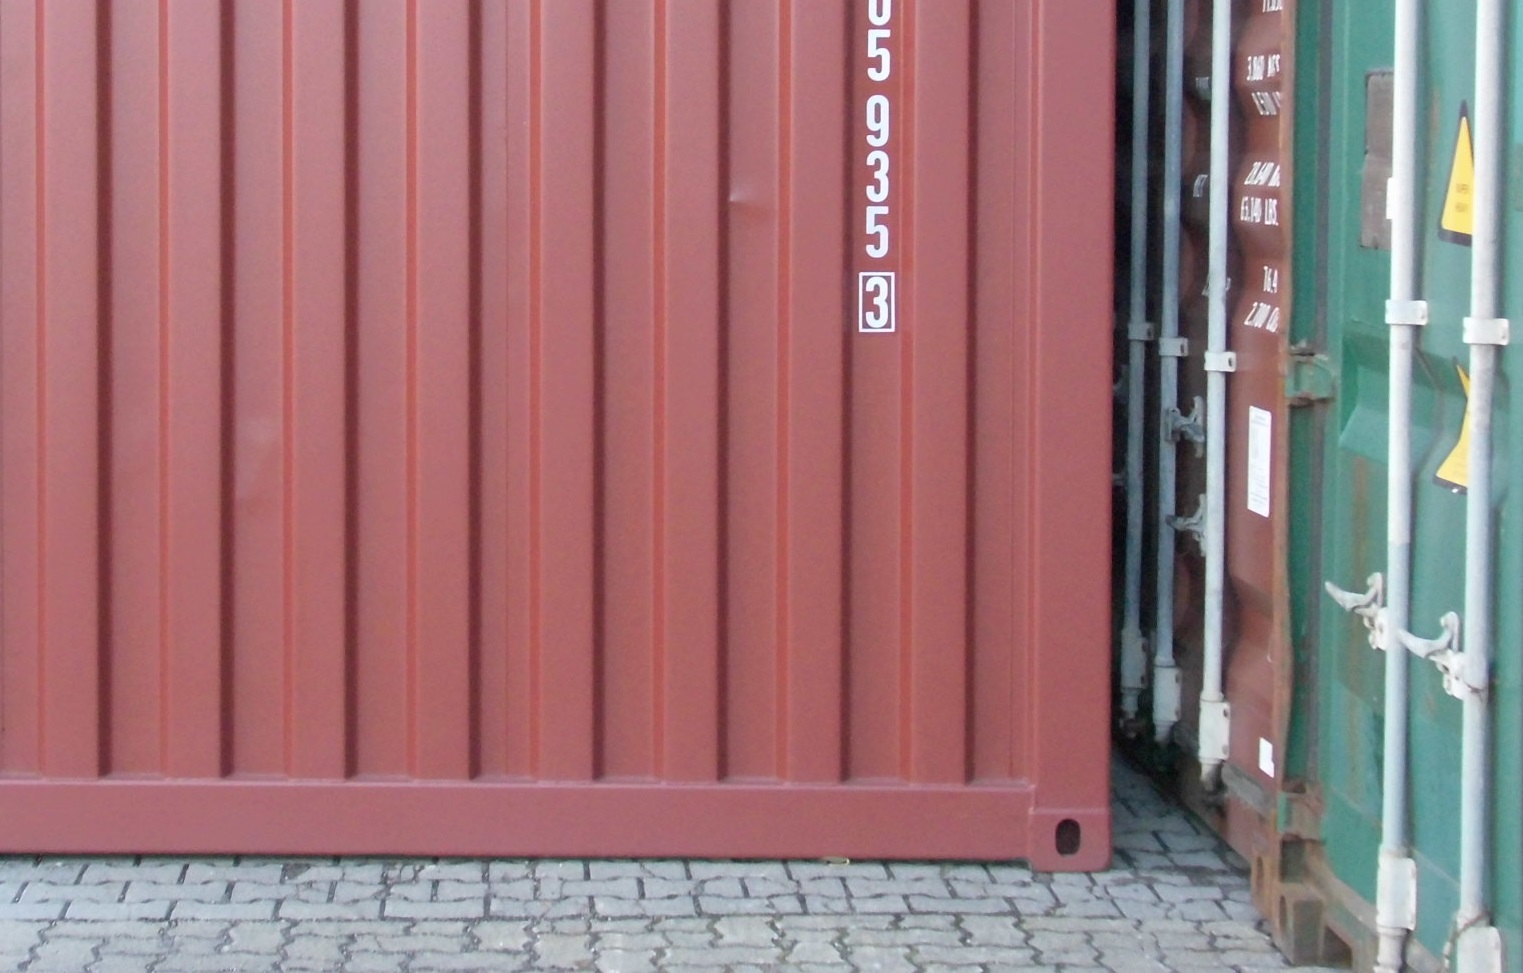container_no_door: (14, 2, 1124, 855)
